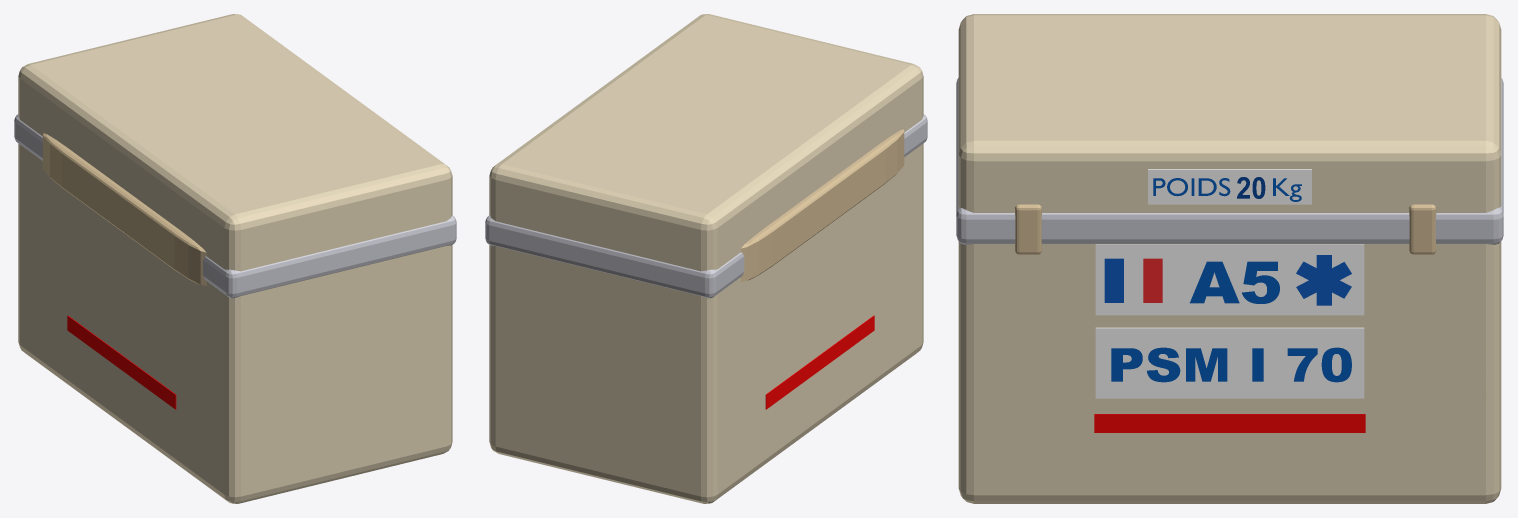
File: MalleA5.fbx
3 renders of one model, left to right at view 1: azimuth 30°, elevation 25°; view 2: azimuth 150°, elevation 25°; view 3: azimuth 270°, elevation 25°, orthographic. The views are drawn at different scales.
Parts seen in each view (by area): view 1: Malle_PSM, Anneau, Loquet.002, Bande_Rouge; view 2: Malle_PSM, Anneau, Loquet.002, Bande_Rouge; view 3: Malle_PSM, Anneau, Etiquette_PSM, Etiquette_A3.001, Bande_Rouge, Etiquette_A3, Texte_PSM, Drabeau Blanc, Texte_A3, Samu, Loquet, Loquet.001 (+1 smaller).
Boxes of the visible parts, x1,y1,x2,y2 form: Malle_PSM: (18,14,452,503); Anneau: (14,114,456,298); Loquet.002: (43,133,206,285); Bande_Rouge: (67,315,176,409); Malle_PSM: (489,14,923,503); Anneau: (485,114,927,298); Loquet.002: (741,129,904,281); Bande_Rouge: (765,315,874,409); Malle_PSM: (958,14,1501,503); Anneau: (956,78,1503,244); Etiquette_PSM: (1095,327,1364,398); Etiquette_A3.001: (1095,244,1364,315); Bande_Rouge: (1094,414,1365,432); Etiquette_A3: (1148,169,1311,204); Texte_PSM: (1111,347,1351,382); Drabeau Blanc: (1104,258,1162,302); Texte_A3: (1190,261,1279,303); Samu: (1296,255,1351,305); Loquet: (1409,204,1436,254); Loquet.001: (1015,204,1041,254).
Size of the model in its own units: 33.45 by 39 by 53.5.
